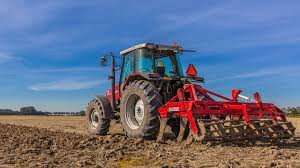tractor: (85, 39, 205, 139)
